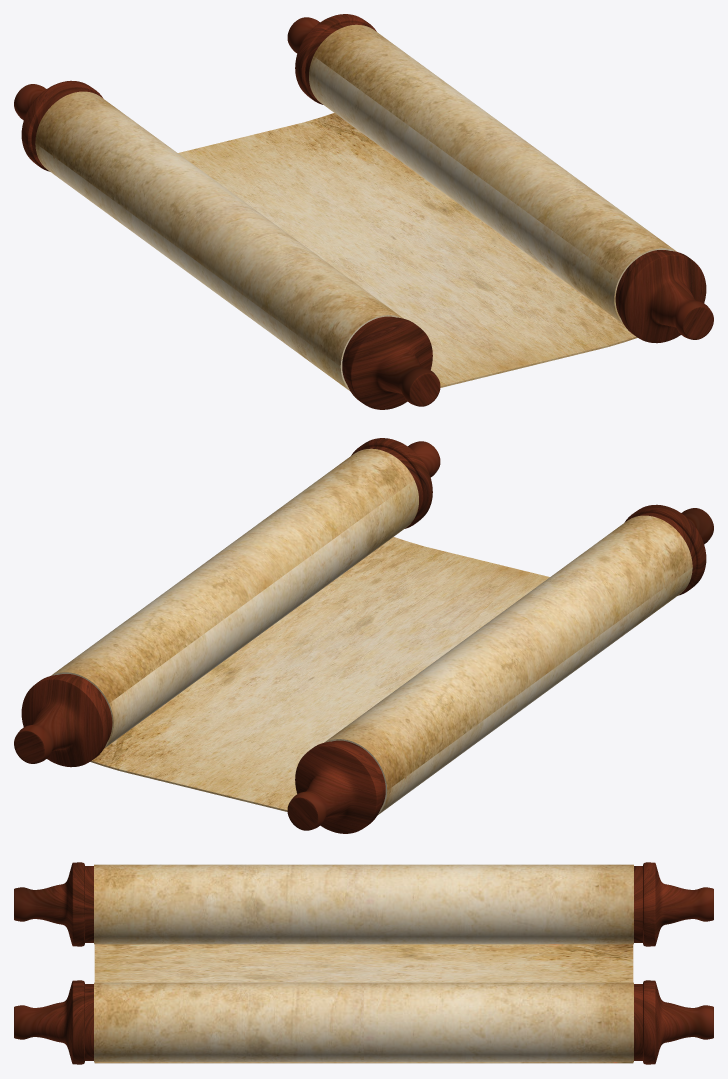
The model's file is Scroll Half Open.fbx.
3 renders of one model, top to bottom at view 1: azimuth 30°, elevation 25°; view 2: azimuth 150°, elevation 25°; view 3: azimuth 270°, elevation 25°, orthographic. The views are drawn at different scales.
Visible parts, largest first — view 1: Plane.005, ScrollRight.001, ScrollLeft.001; view 2: Plane.005, ScrollRight.001, ScrollLeft.001; view 3: ScrollRight.001, ScrollLeft.001, Plane.005.
Part boxes in pixels (x1=…): Plane.005: x1=178, y1=113, x2=637, y2=387; ScrollRight.001: x1=287, y1=14, x2=713, y2=343; ScrollLeft.001: x1=14, y1=80, x2=440, y2=409; Plane.005: x1=90, y1=537, x2=549, y2=811; ScrollRight.001: x1=14, y1=438, x2=440, y2=767; ScrollLeft.001: x1=287, y1=504, x2=713, y2=833; ScrollRight.001: x1=14, y1=980, x2=713, y2=1064; ScrollLeft.001: x1=14, y1=862, x2=713, y2=946; Plane.005: x1=94, y1=944, x2=633, y2=1063.
Bounding box in the file's own units: 18.83 × 4.51 × 36.28.
Materials: 2 (2 with a texture image).
